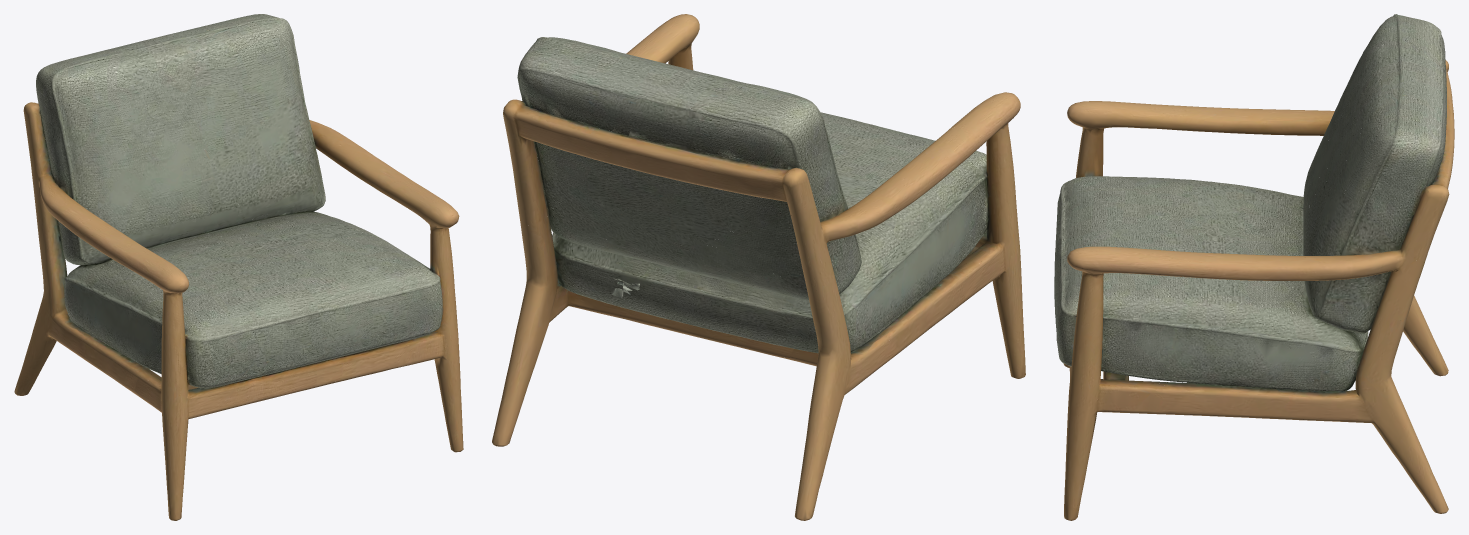
Rendered from lounge-chair.glb.
3 renders of one model, left to right at view 1: azimuth 30°, elevation 25°; view 2: azimuth 150°, elevation 25°; view 3: azimuth 270°, elevation 25°, orthographic. The views are drawn at different scales.
Parts seen in each view (by area): view 1: tripo_node_d67eb947-a1e4-4d01-a3bd-9c389baf8a2a; view 2: tripo_node_d67eb947-a1e4-4d01-a3bd-9c389baf8a2a; view 3: tripo_node_d67eb947-a1e4-4d01-a3bd-9c389baf8a2a.
Boxes of the visible parts, x1=… form: tripo_node_d67eb947-a1e4-4d01-a3bd-9c389baf8a2a: x1=14, y1=14, x2=463, y2=520; tripo_node_d67eb947-a1e4-4d01-a3bd-9c389baf8a2a: x1=492, y1=14, x2=1025, y2=520; tripo_node_d67eb947-a1e4-4d01-a3bd-9c389baf8a2a: x1=1054, y1=14, x2=1454, y2=520.
Size of the model in its own units: 0.7619 by 0.82 by 0.8007.
Materials: 1 (1 with a texture image).
